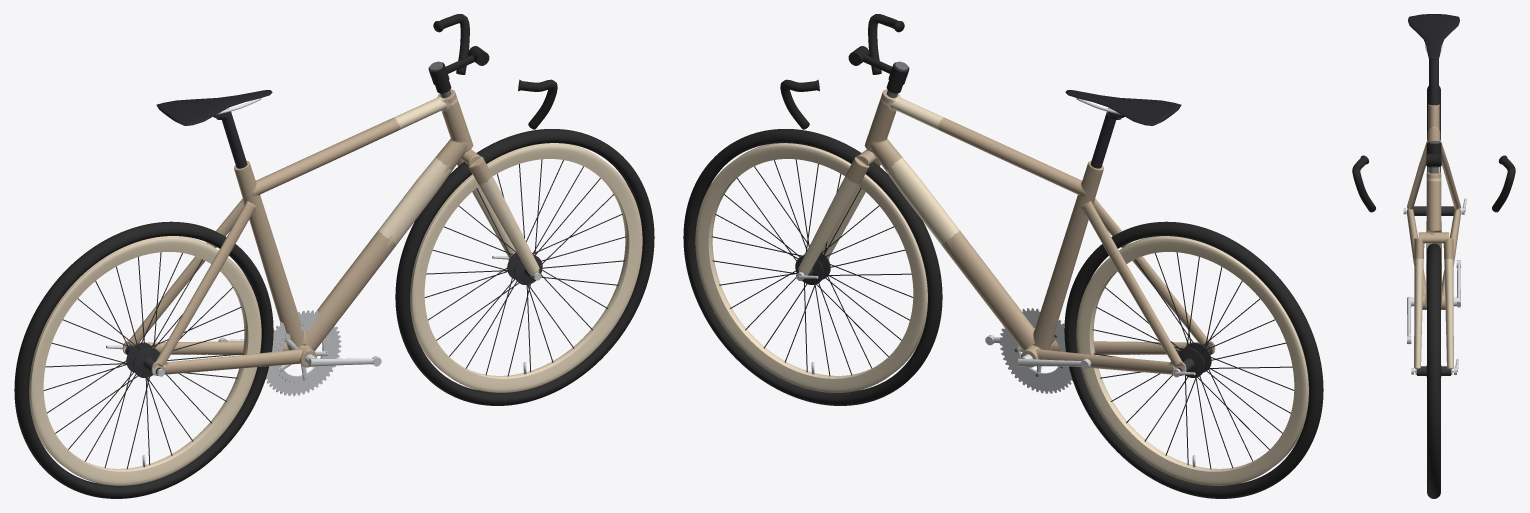
Rendered from bike_web_raw.glb.
The picture shows the model from 3 angles, left to right: view 1: azimuth 30°, elevation 25°; view 2: azimuth 150°, elevation 25°; view 3: azimuth 270°, elevation 25°; orthographic projection. The views are drawn at different scales.
Parts seen in each view (by area): view 1: frame, rim_front, rim_rear, tyre_rear, tyre_front, spokes_front, spokes_rear, fork, chainrings, saddle, dropbar, stem (+3 smaller); view 2: frame, rim_front, rim_rear, tyre_rear, tyre_front, spokes_front, spokes_rear, fork, chainrings, saddle, dropbar, stem (+3 smaller); view 3: tyre_front, frame, fork, saddle, dropbar, stem, crank_arms, seatpost, hub_rear, tyre_rear.
Part boxes in pixels (bbox=[...]): frame: bbox=[122, 89, 473, 375]; rim_front: bbox=[410, 143, 642, 392]; rim_rear: bbox=[29, 236, 261, 485]; tyre_rear: bbox=[14, 221, 273, 498]; tyre_front: bbox=[395, 129, 654, 405]; spokes_front: bbox=[424, 159, 626, 376]; spokes_rear: bbox=[43, 252, 245, 469]; fork: bbox=[457, 149, 539, 277]; chainrings: bbox=[265, 310, 341, 396]; saddle: bbox=[156, 90, 272, 125]; dropbar: bbox=[433, 14, 557, 129]; stem: bbox=[428, 46, 489, 97]; frame: bbox=[864, 89, 1215, 375]; rim_front: bbox=[695, 143, 927, 392]; rim_rear: bbox=[1076, 236, 1308, 485]; tyre_rear: bbox=[1064, 221, 1323, 498]; tyre_front: bbox=[683, 129, 942, 405]; spokes_front: bbox=[711, 159, 913, 376]; spokes_rear: bbox=[1092, 252, 1294, 469]; fork: bbox=[798, 149, 880, 275]; chainrings: bbox=[999, 308, 1072, 393]; saddle: bbox=[1065, 90, 1181, 125]; dropbar: bbox=[780, 14, 904, 129]; stem: bbox=[848, 46, 909, 97]; tyre_front: bbox=[1427, 243, 1440, 498]; frame: bbox=[1406, 104, 1461, 309]; fork: bbox=[1414, 232, 1453, 374]; saddle: bbox=[1408, 14, 1459, 59]; dropbar: bbox=[1352, 155, 1515, 212]; stem: bbox=[1426, 141, 1441, 173]; crank_arms: bbox=[1407, 260, 1460, 344]; seatpost: bbox=[1429, 58, 1438, 105]; hub_rear: bbox=[1413, 206, 1454, 215]; tyre_rear: bbox=[1427, 86, 1440, 172].
Size of the model in its own units: 1.73 by 0.9733 by 0.4466.
